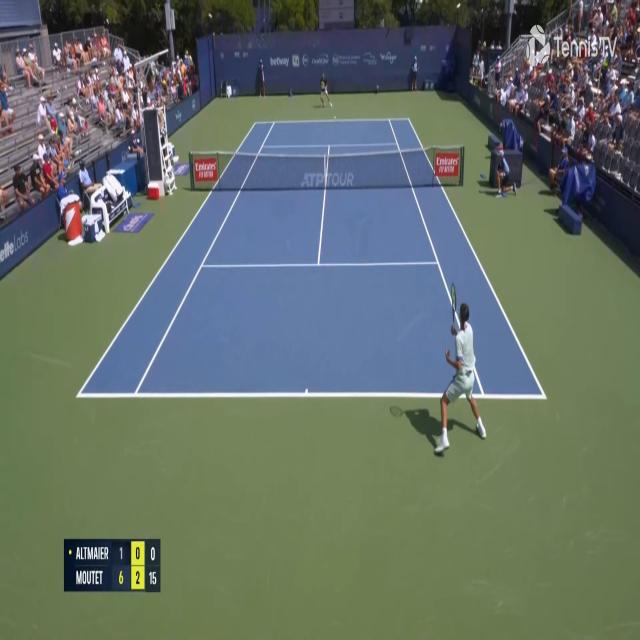tennis-player: (434, 276, 489, 456), (318, 72, 331, 108)
